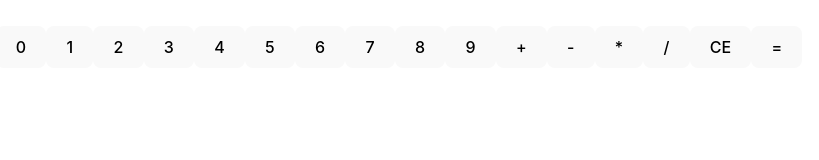
Scenario: Calculator › should perform calculation and print the result
This screenshot has width=819, height=160.
Click the button "1": (70, 47) [46, 26, 93, 68]
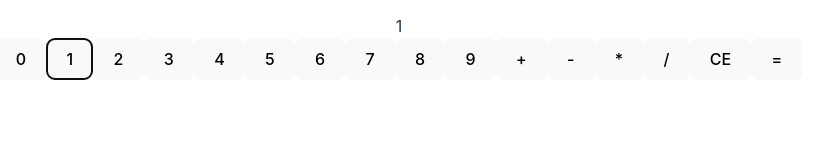
Click the button "+": (521, 59) [496, 38, 547, 80]
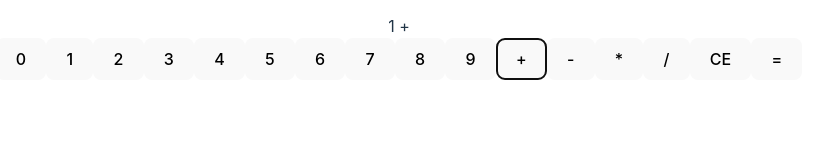
Click the button "2": (118, 59) [93, 38, 144, 80]
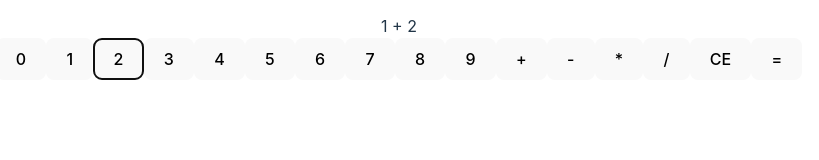
Click the button "=": (777, 59) [751, 38, 802, 80]
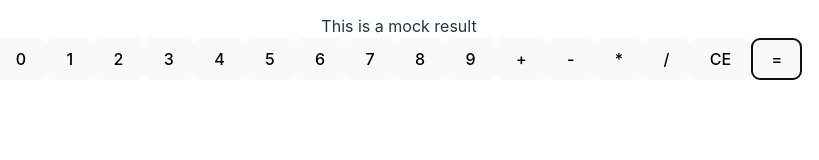
Now the field reads "This is a mock result", box [321, 16, 477, 36]
